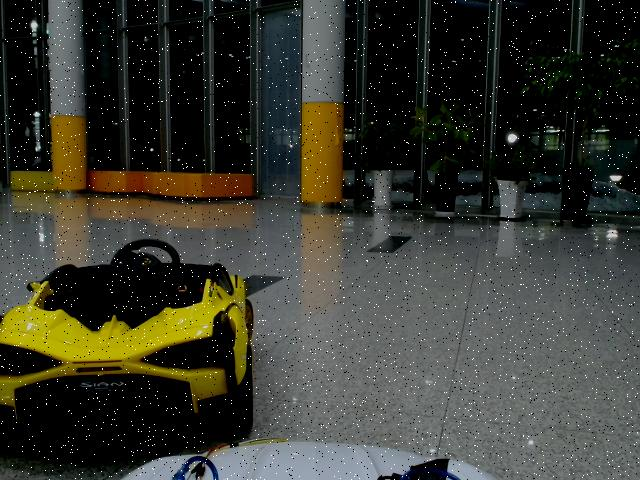car: (1, 239, 254, 449)
